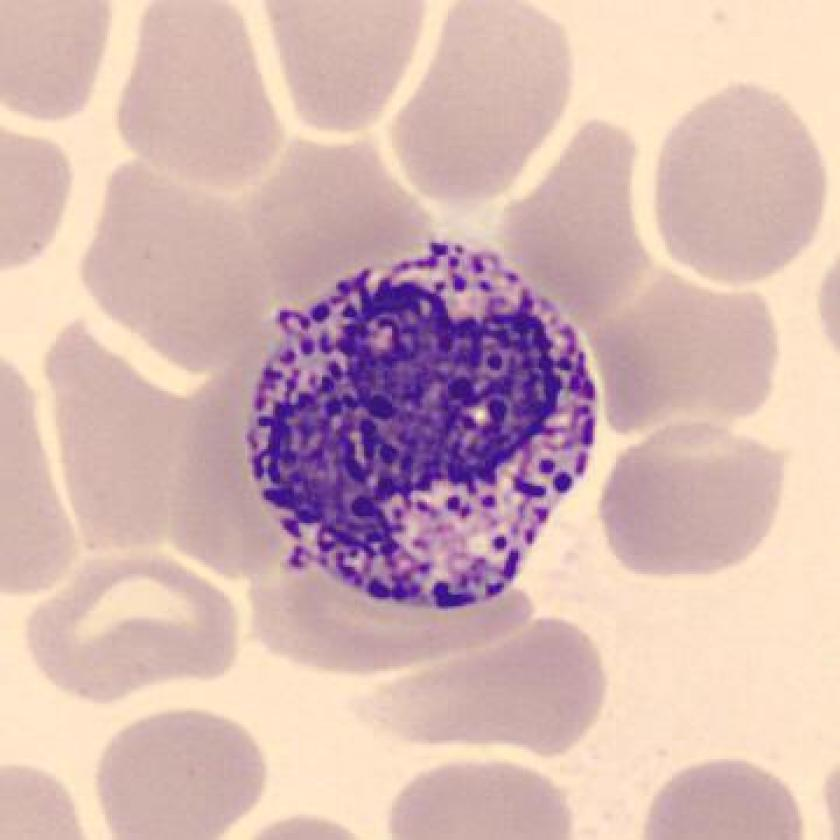basophil: (234, 240, 594, 622)
